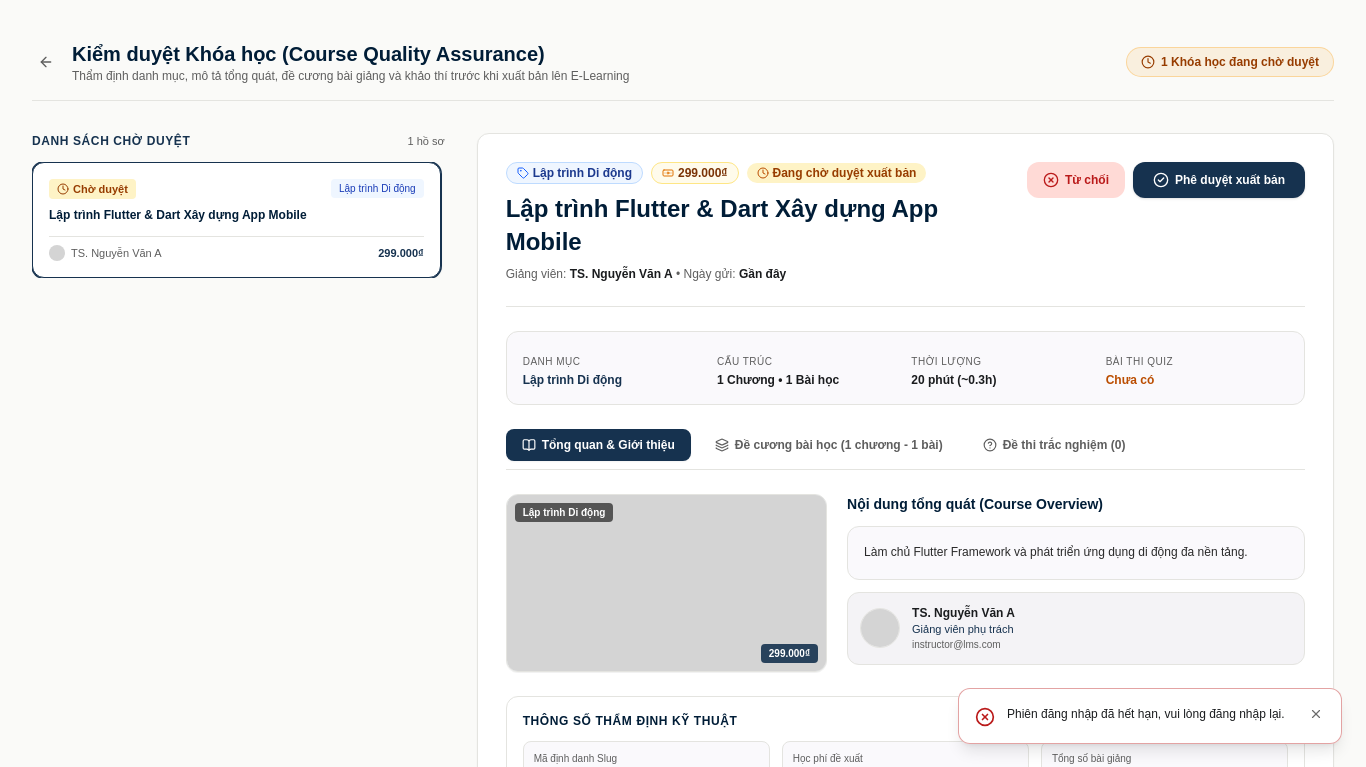
Test: CourseApprovalPage - Thẩm định chi tiết khóa học chờ duyệt › chuyển đổi tab xem Đề cương bài học và hiển thị danh sách các chương, bài giảng
Expected: the heading "Lập trình Flutter & Dart Xây dựng App Mobile" below "Danh sách chờ duyệt" is shown, [49,208,307,222]
// Bấm sang tab Đề cương bài học
Click the button "Đề cương bài học (1 chương - 1 bài)" at [829, 445], box [699,429,959,461]
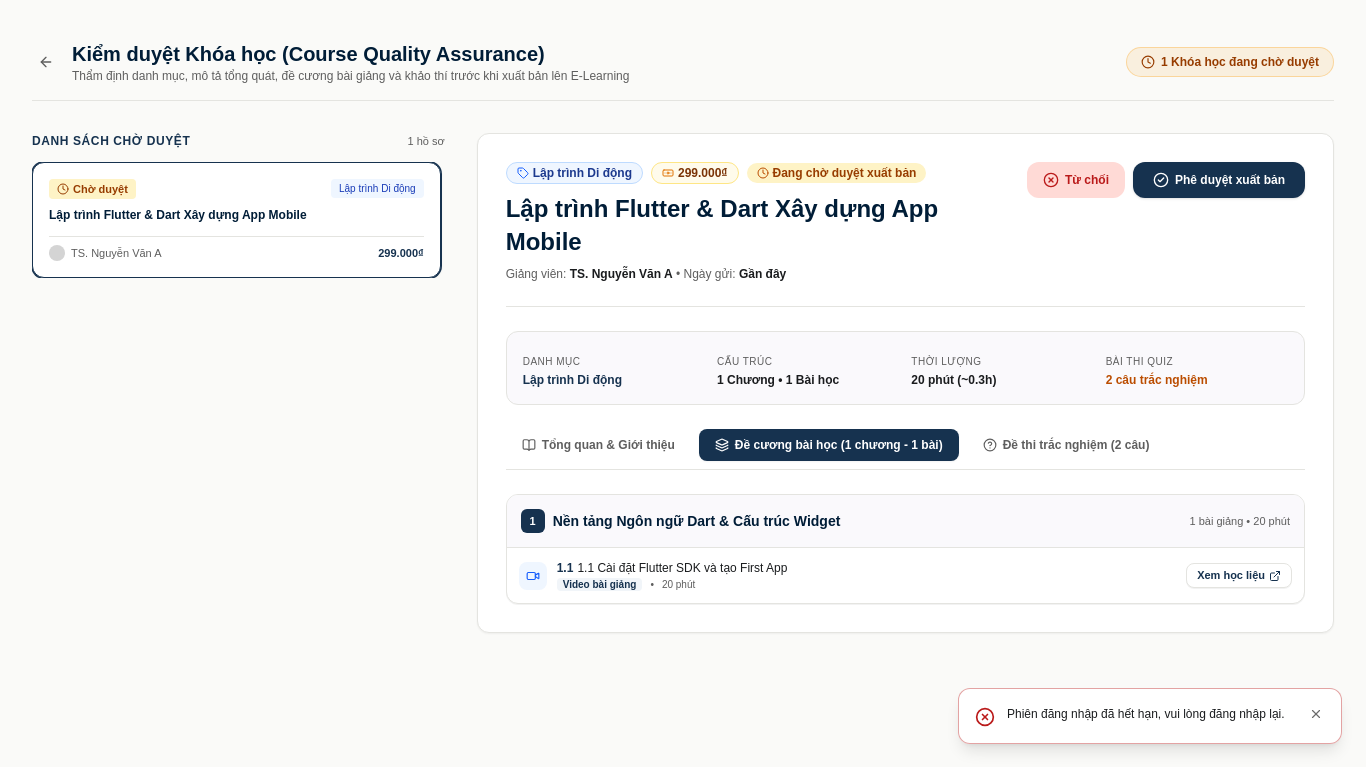
Expected: the heading "Nền tảng Ngôn ngữ Dart & Cấu trúc Widget" is shown, [553,511,840,531]
Expected: the text "1.11.1 Cài đặt Flutter SDK và tạo First App" is shown, [557,560,788,576]
